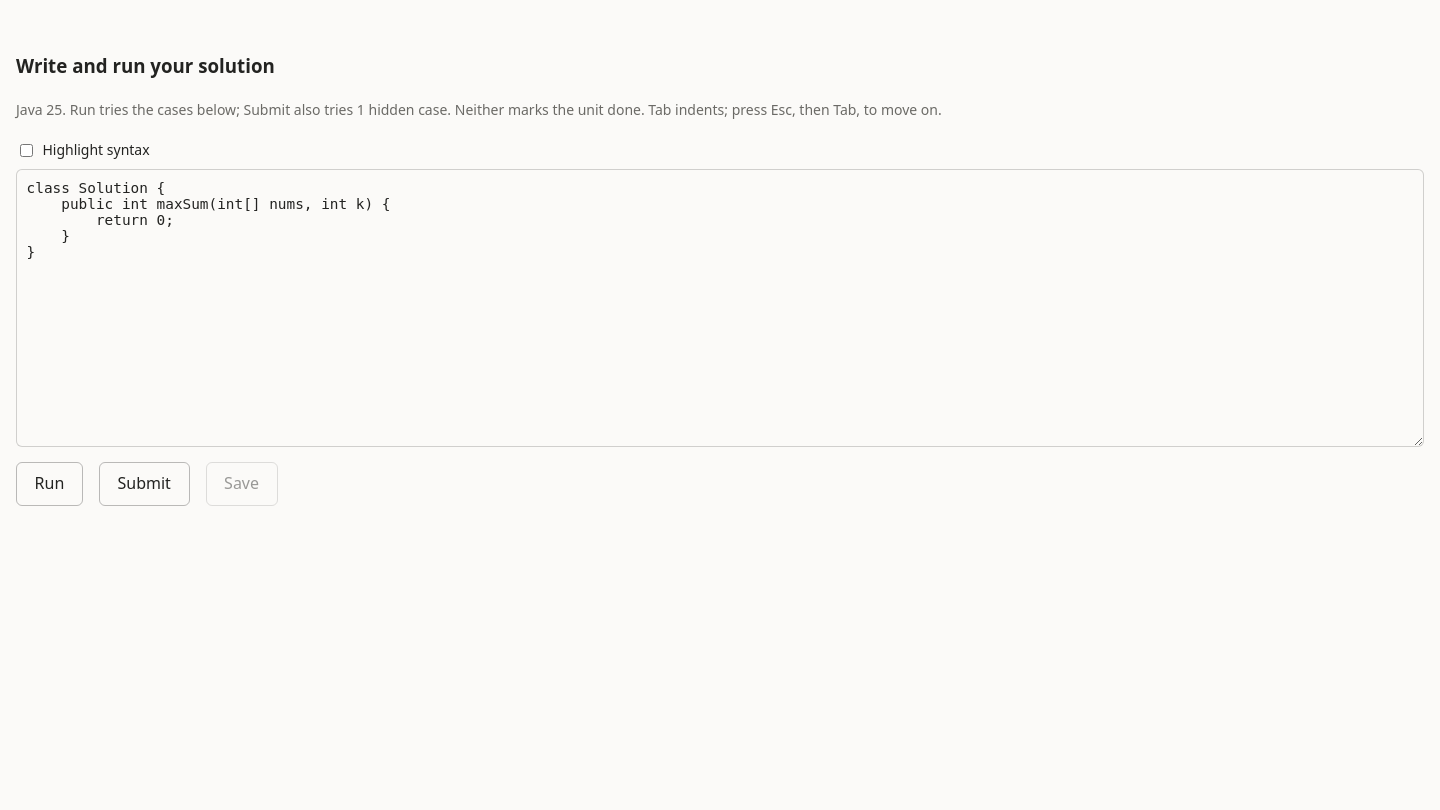
it: CodeRunner › puts each case's result first, and an exception on its own row under the case
The image size is (1440, 810).
Step 1. Click the button "Run" → (49, 484), box top-left (16, 462), bottom-right (83, 506)
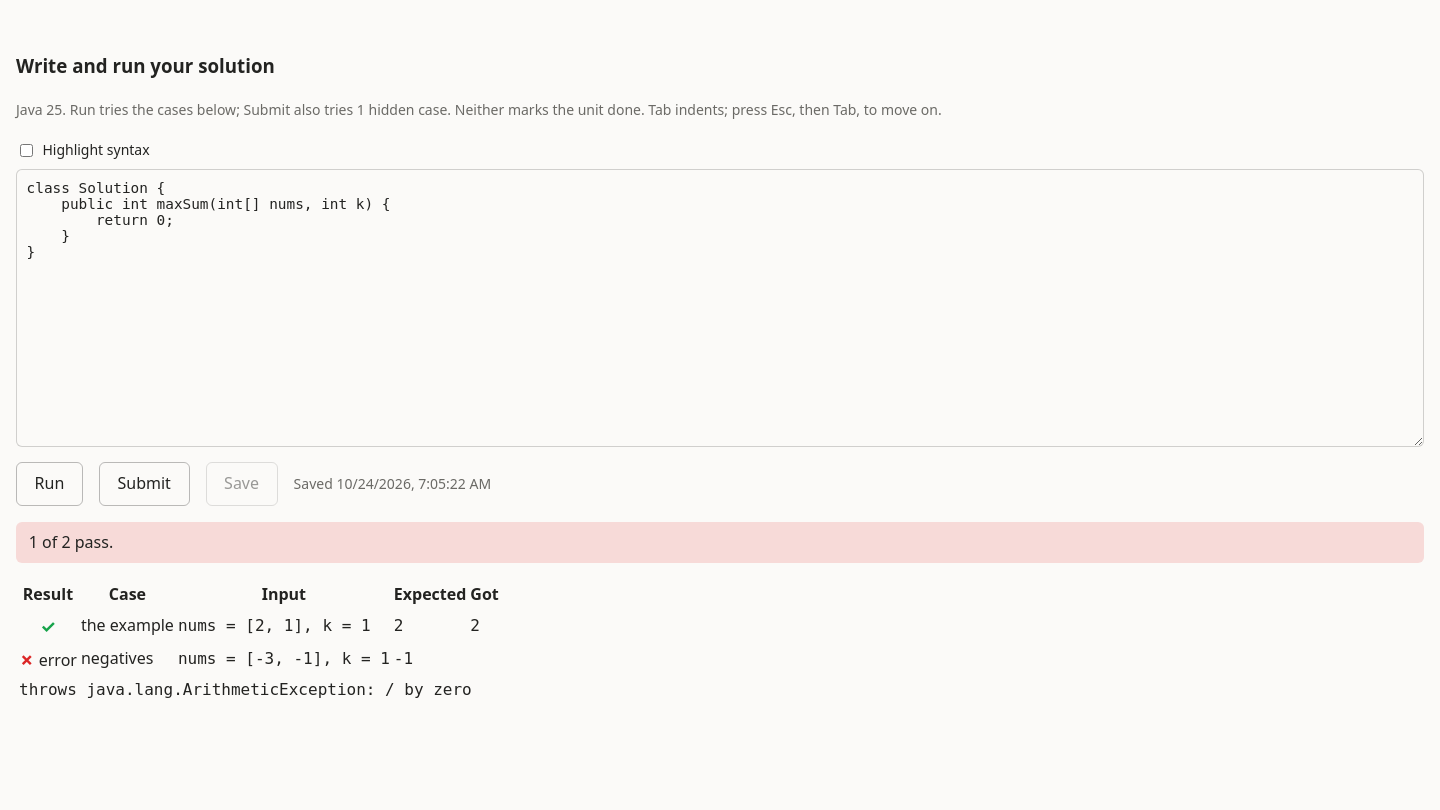
Check: the column heading "Result" is shown, box top-left (18, 581), bottom-right (78, 609)
Check: the cell "✓" is shown, box top-left (18, 611), bottom-right (78, 642)
Check: the cell "✗ error" is shown, box top-left (18, 644), bottom-right (78, 674)
